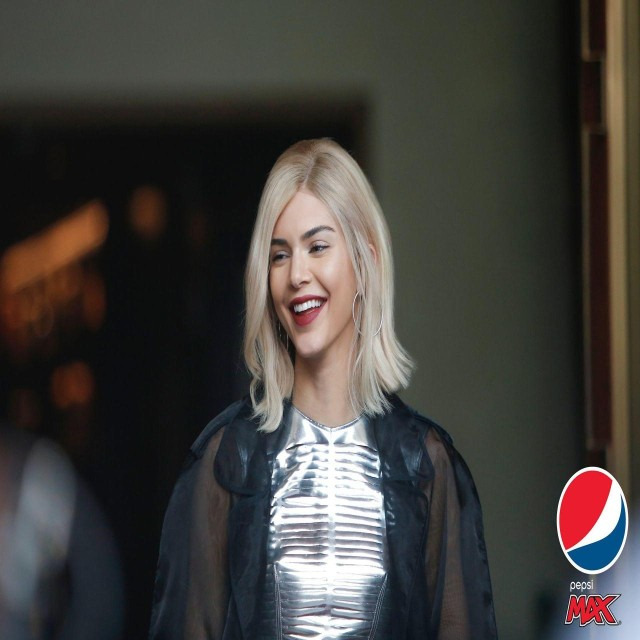pepsi: (554, 464, 630, 580)
